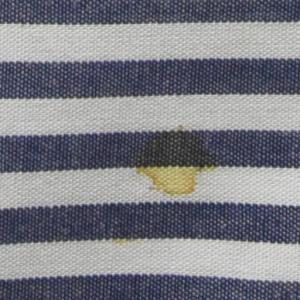Oil Stain: (104, 123, 225, 251)
